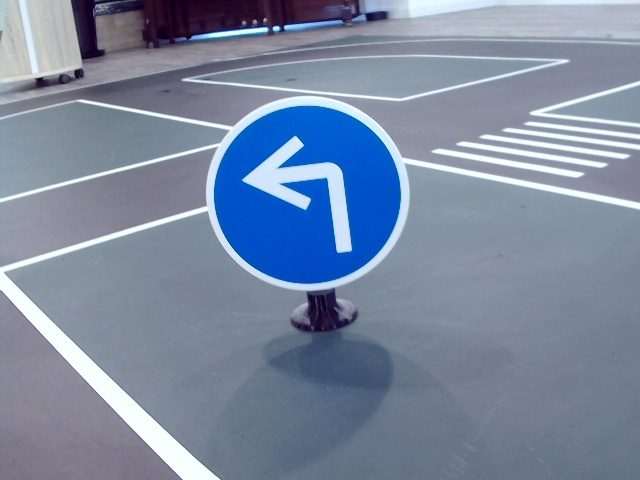turn_left: (238, 134, 359, 253)
